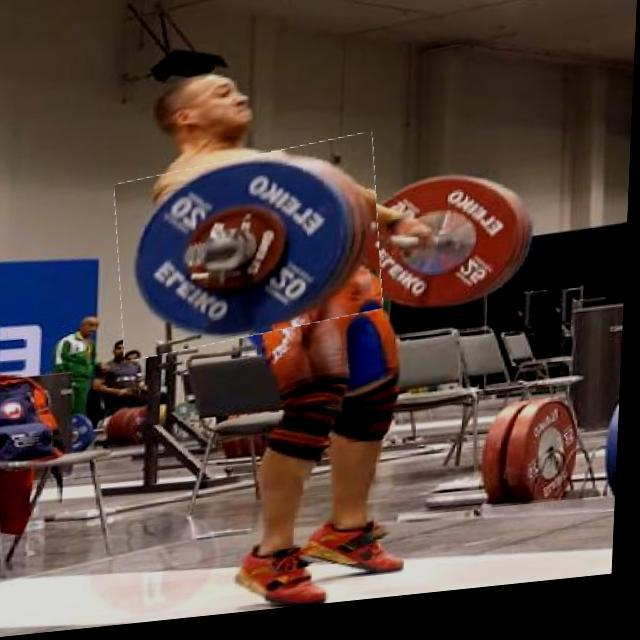barbell: (115, 147, 388, 361)
